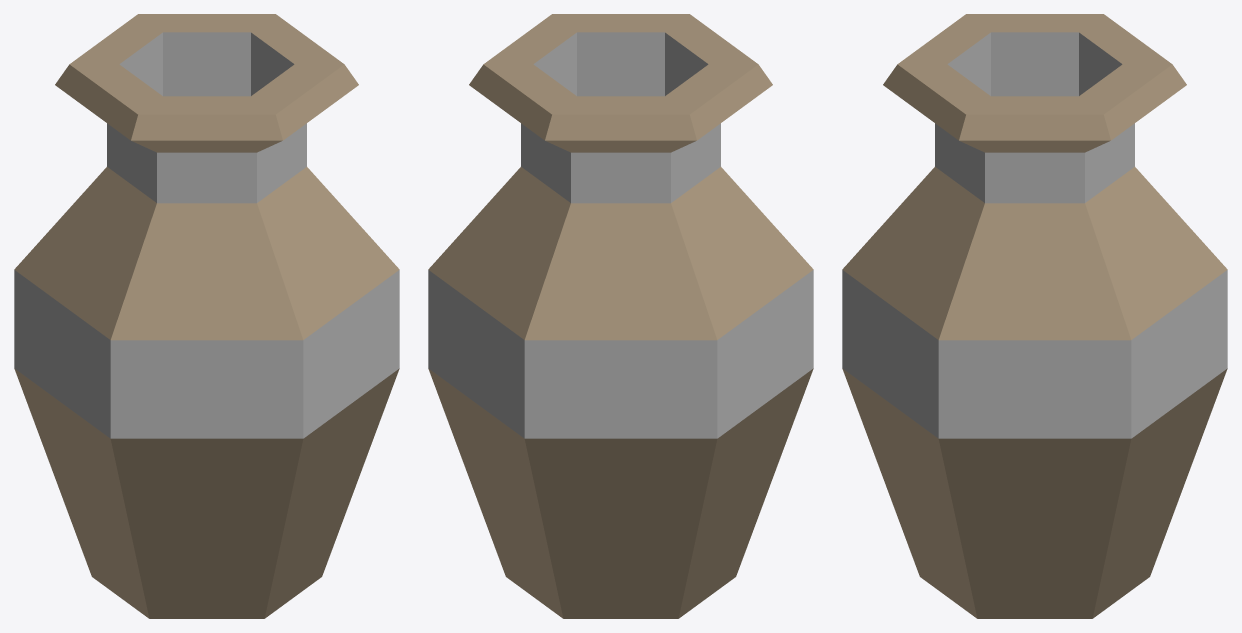
The model's file is Urn.obj.
The picture shows the model from 3 angles, left to right: view 1: azimuth 30°, elevation 25°; view 2: azimuth 150°, elevation 25°; view 3: azimuth 270°, elevation 25°; orthographic projection.
Parts seen in each view (by area): view 1: Cylinder_Cylinder.010; view 2: Cylinder_Cylinder.010; view 3: Cylinder_Cylinder.010.
Boxes of the visible parts, bbox=[...] form: Cylinder_Cylinder.010: bbox=[14, 14, 399, 618]; Cylinder_Cylinder.010: bbox=[428, 14, 813, 618]; Cylinder_Cylinder.010: bbox=[842, 14, 1227, 618].
Bounding box in the file's own units: 1.45 × 2.46 × 1.67.
